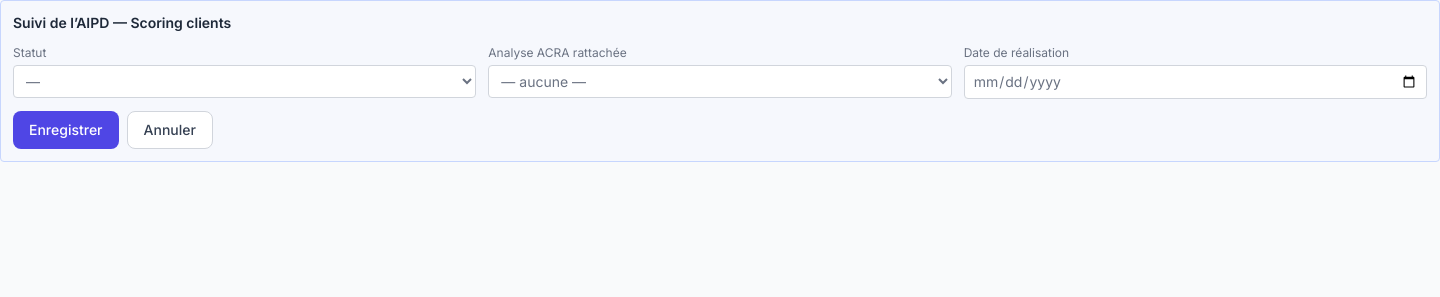
Test: AipdSuiviPanel › « Réalisée » : date du jour pré-remplie ; le message d’erreur disparaît quand on change de statut (recette n° 10)
The image size is (1440, 297).
Select "Non retenue" in the dropdown labelled "Statut": (245, 82) [13,65,476,98]
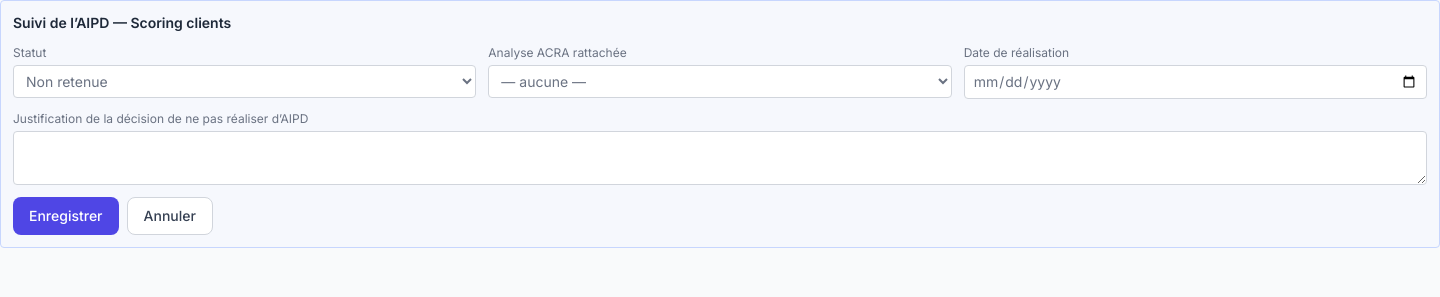
Click the button "Enregistrer": (66, 216) [13,197,118,235]
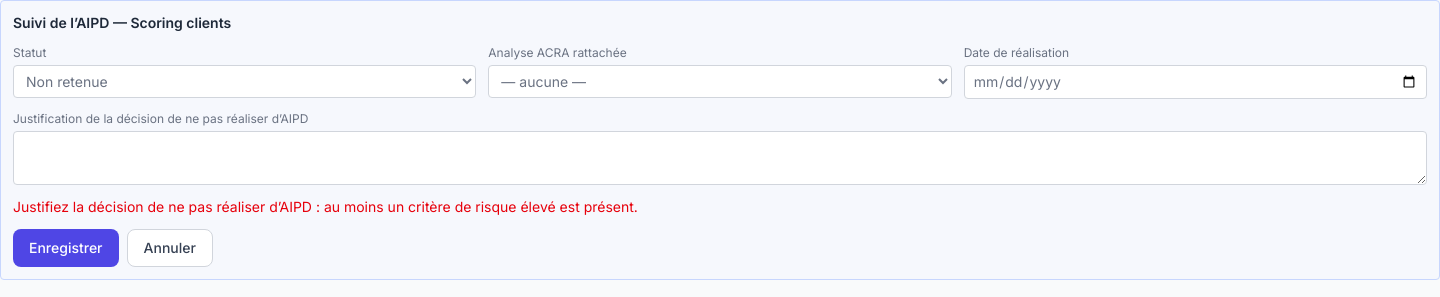
Expected: the message is shown, [13,198,638,215]
Select "Réalisée" in the dropdown labelled "Statut": (245, 82) [13,65,476,98]
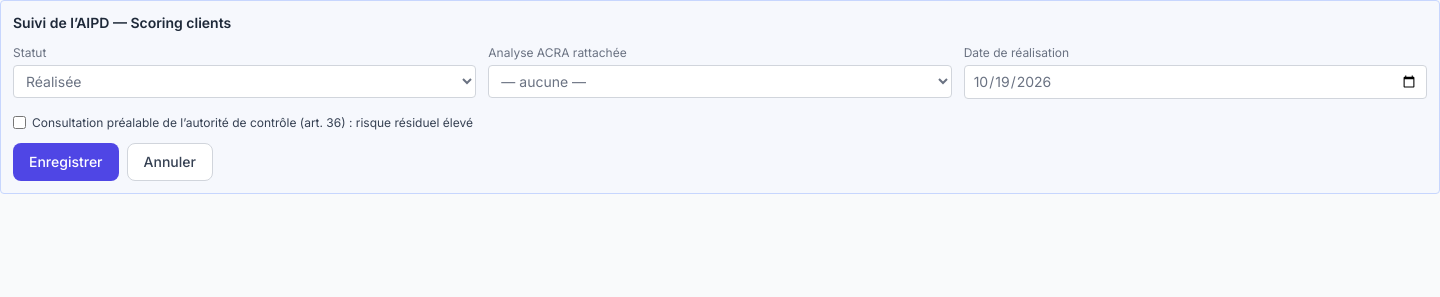
Expected: the message "Justifiez la décision de ne pas réaliser d’AIPD : au moins un critère de risque" is gone
